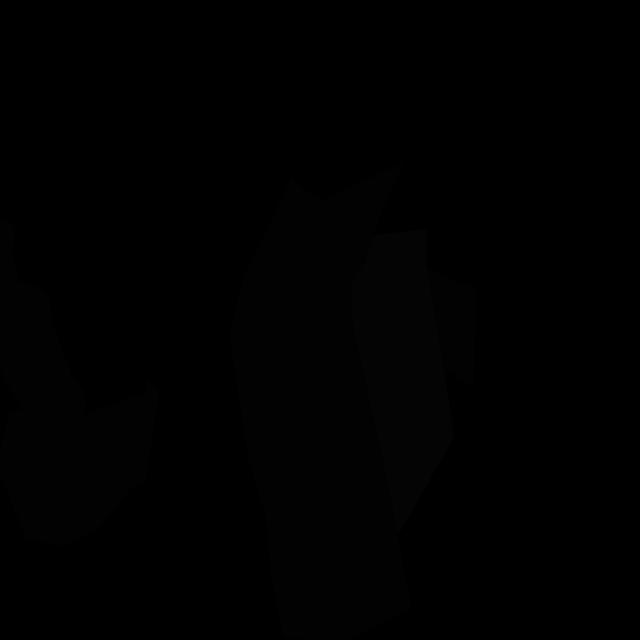cardboard: (230, 161, 412, 640), (0, 375, 159, 546), (0, 218, 86, 413), (428, 269, 477, 387)
soft_plastic: (350, 229, 454, 535)
